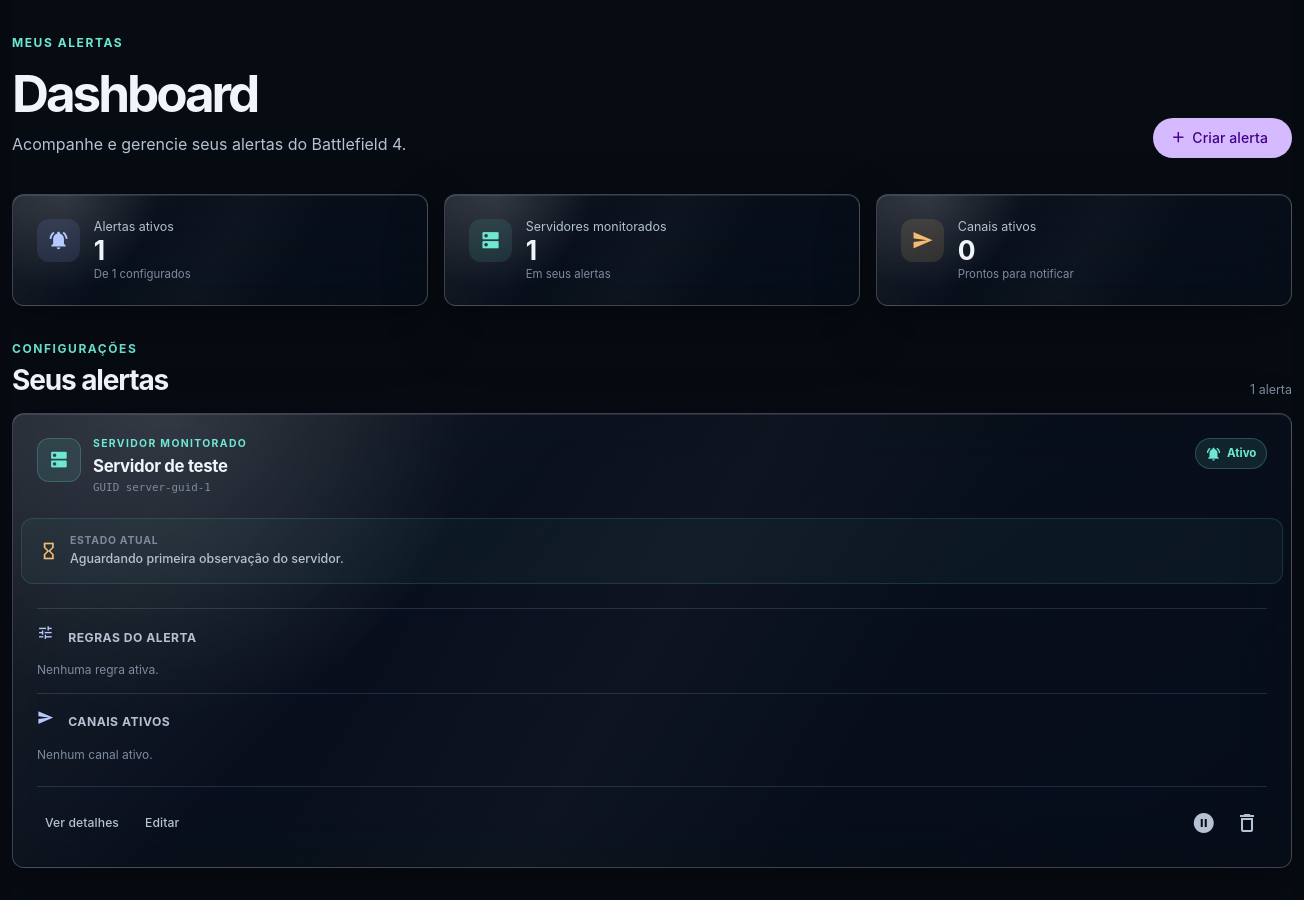
Test: DashboardPageComponent › should update a subscription after a successful toggle
The width and height of the screenshot is (1304, 900).
Click the button named "Desativar alerta": coordinates (1204, 823) 1184,803 -> 1224,843
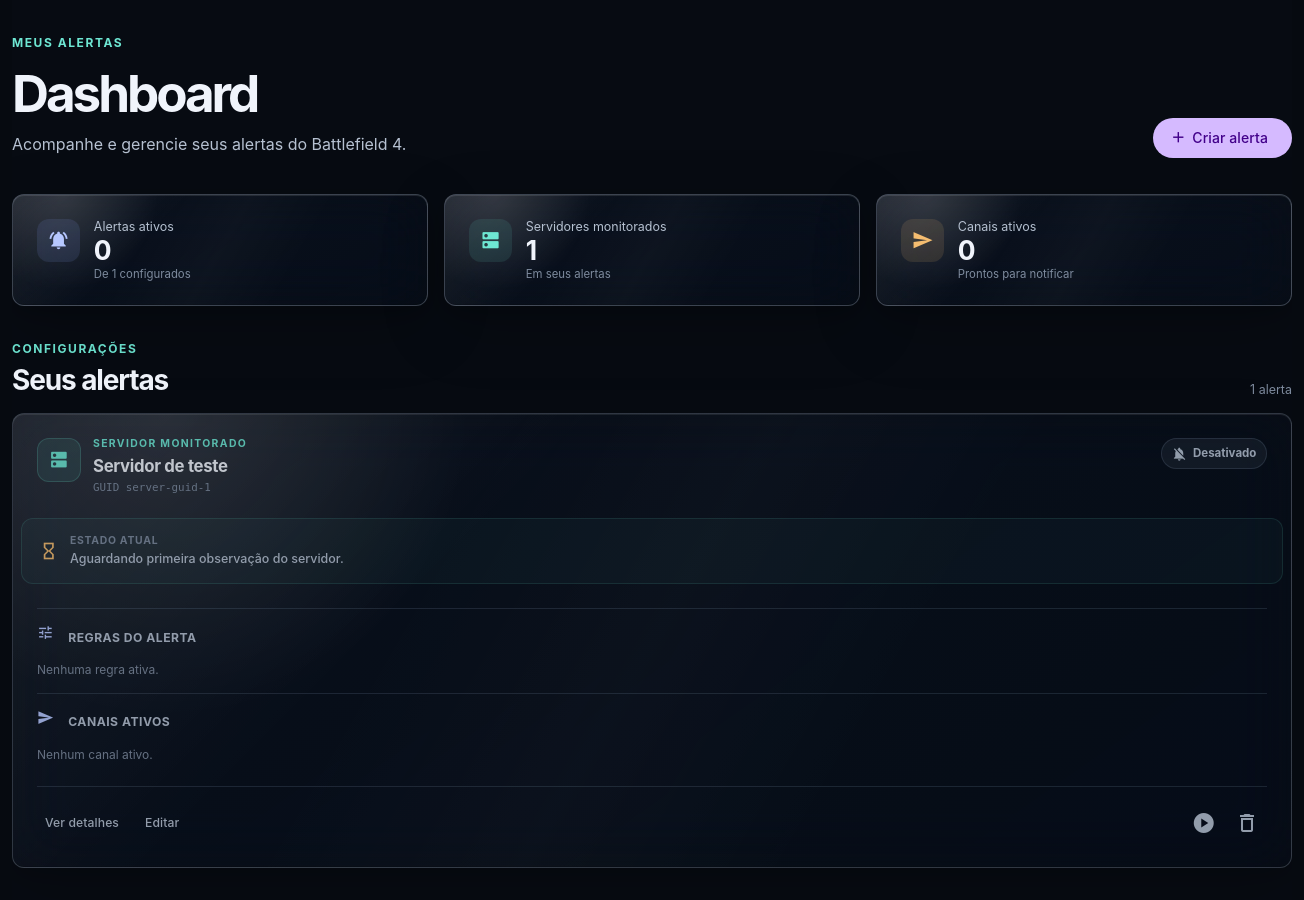
Check: the text "Desativado" is shown, box 1161,438 -> 1267,469
